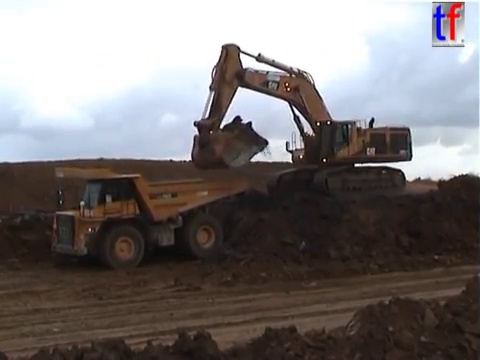excavator: (188, 41, 415, 200)
truck: (44, 165, 249, 270)
